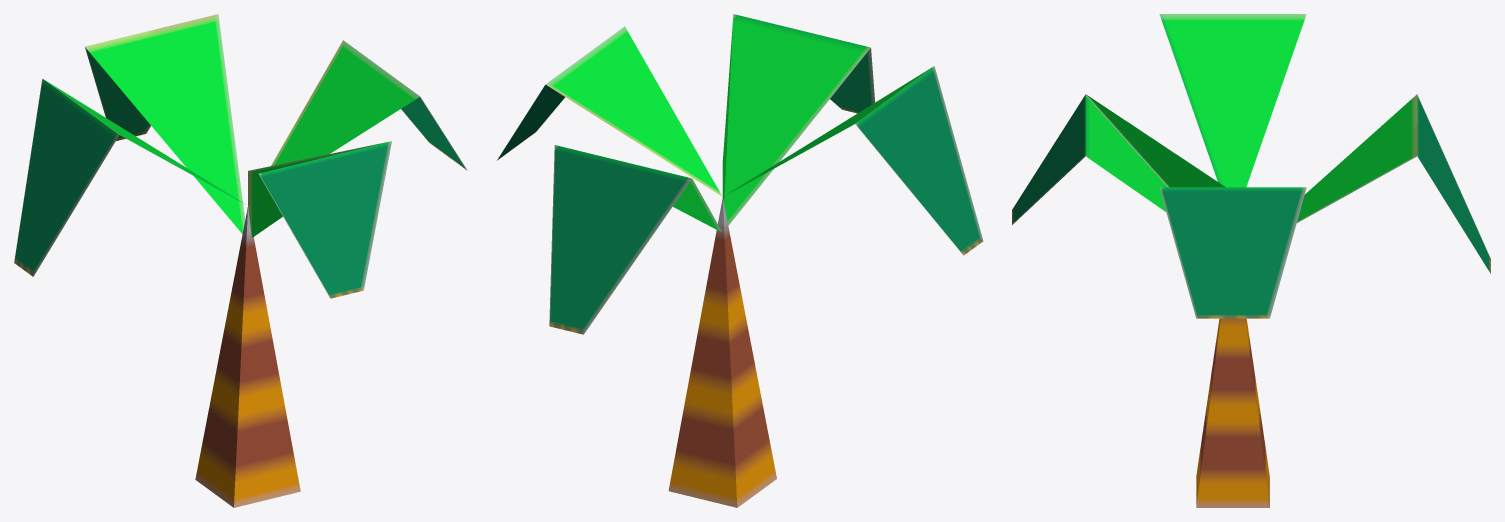
Rendered from plamTree.gltf.
3 renders of one model, left to right at view 1: azimuth 30°, elevation 25°; view 2: azimuth 150°, elevation 25°; view 3: azimuth 270°, elevation 25°, orthographic. The views are drawn at different scales.
Bounding box in the file's own units: 3.25 × 3 × 3.25.
Materials: 1 (1 with a texture image).
